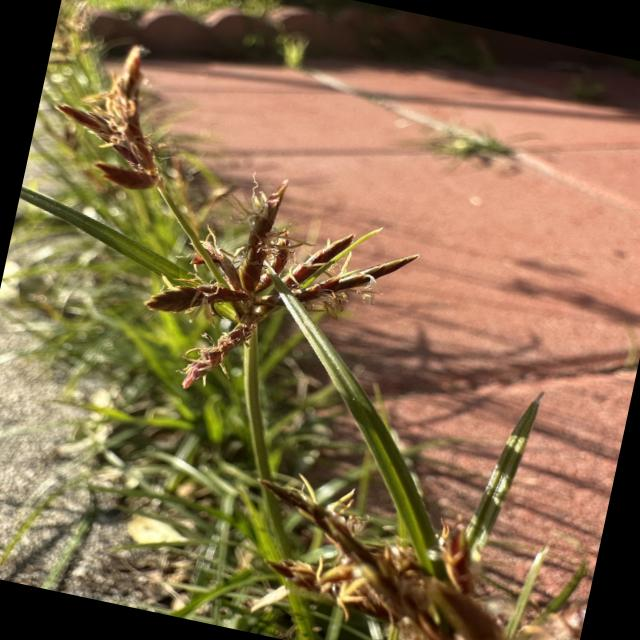cyperus: (0, 23, 453, 438), (219, 454, 603, 640)
